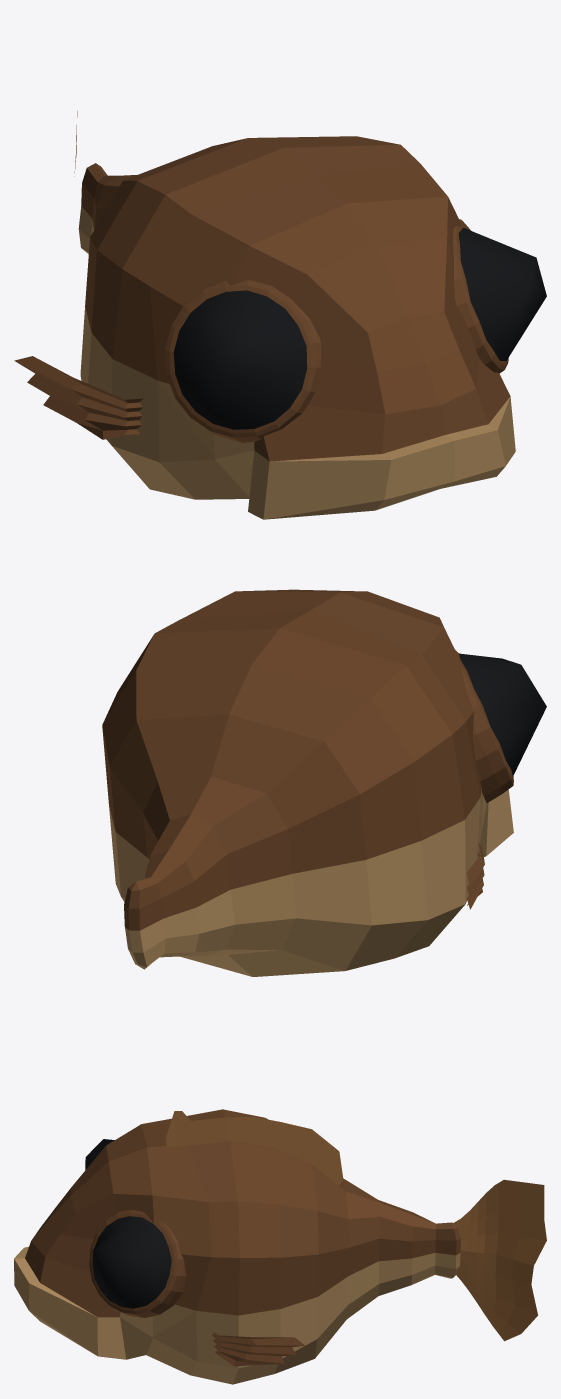
File: cc0-snapper-lod1.glb
The picture shows the model from 3 angles, top to bottom: view 1: azimuth 30°, elevation 25°; view 2: azimuth 150°, elevation 25°; view 3: azimuth 270°, elevation 25°; orthographic projection. The views are drawn at different scales.
Parts seen in each view (by area): view 1: part_0; view 2: part_0; view 3: part_0.
Part boxes in pixels (<box>): part_0: <box>14,111,546,519</box>; part_0: <box>102,589,546,976</box>; part_0: <box>14,1109,546,1384</box>.
Bounding box in the file's own units: 3.16 × 2.69 × 5.18.
